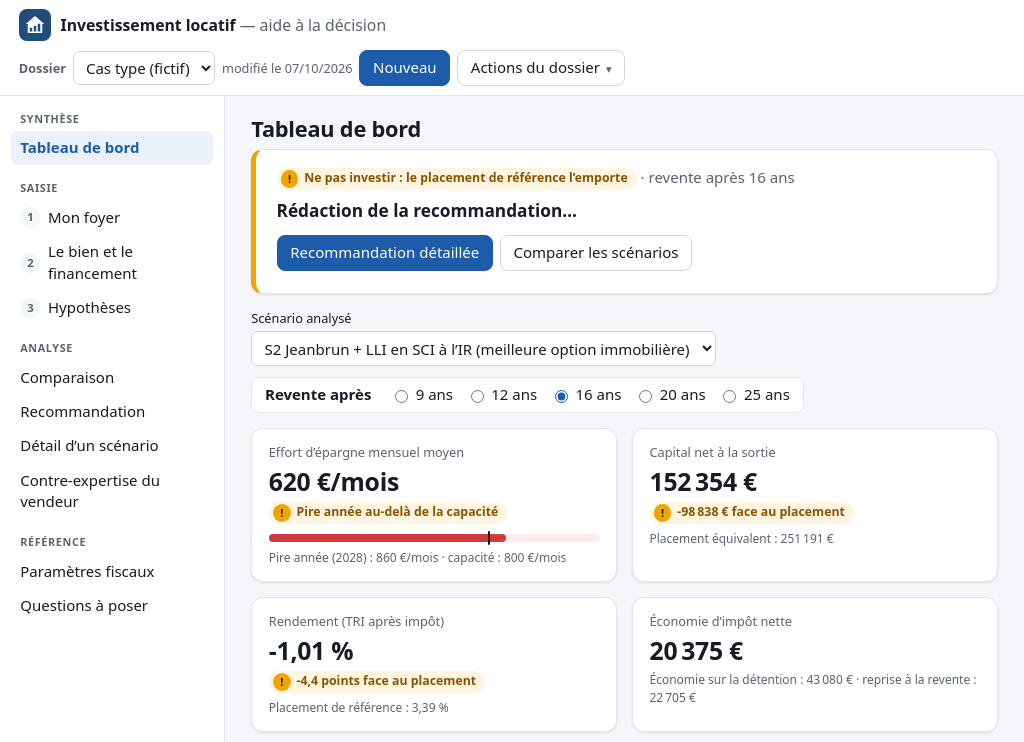
application › dossier vierge : la tranche marginale suit la saisie, les résultats attendent un dossier complet
Click the button "Nouveau" at point(405, 68), box [359,50,450,86]
(page scrolled)
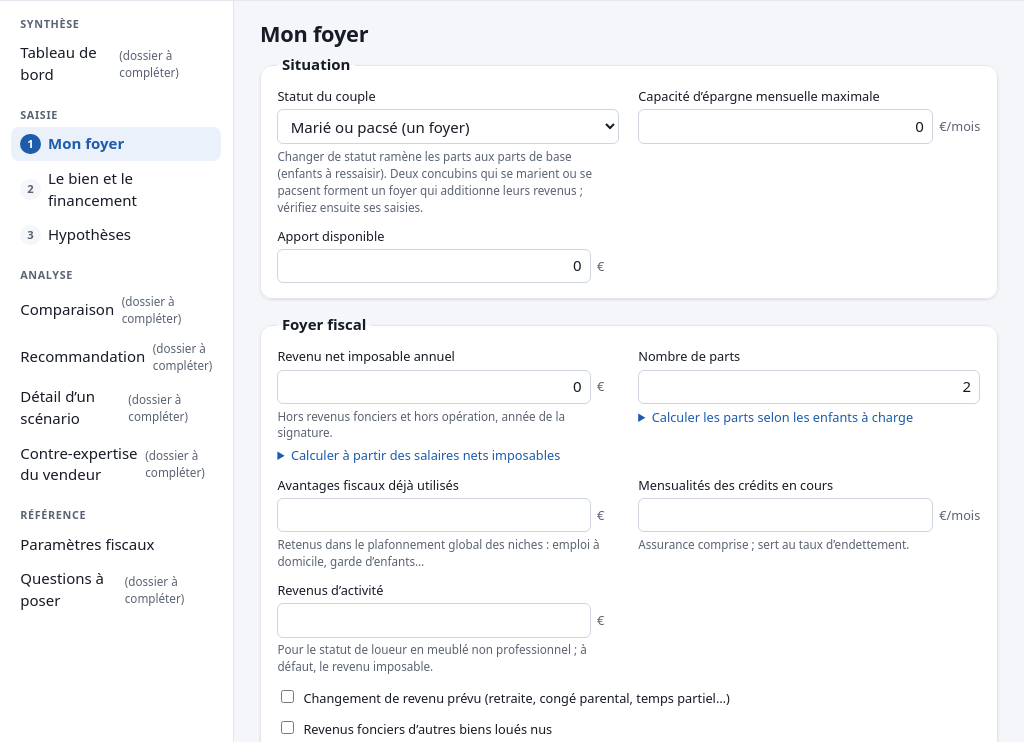
Replace the text in the field labelled "Revenu net imposable annuel" with "85000" at point(434, 387), box [277,370,591,404]
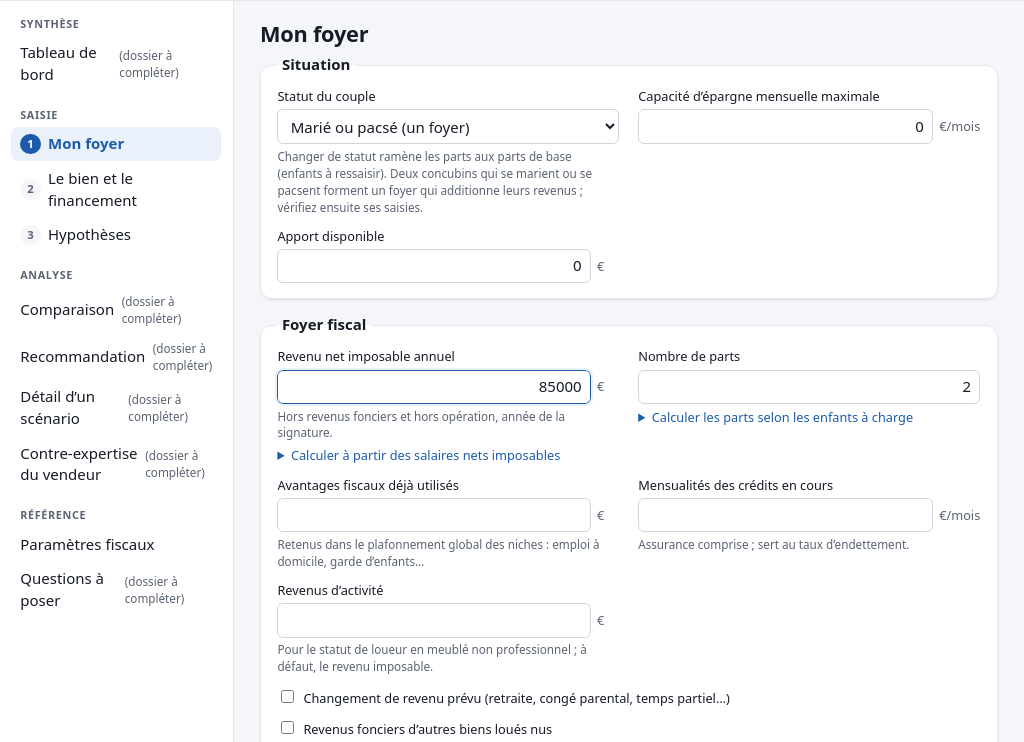
Click the link "Comparaison (dossier à compléter)" at point(101, 310), box [20,293,181,326]
(page scrolled)
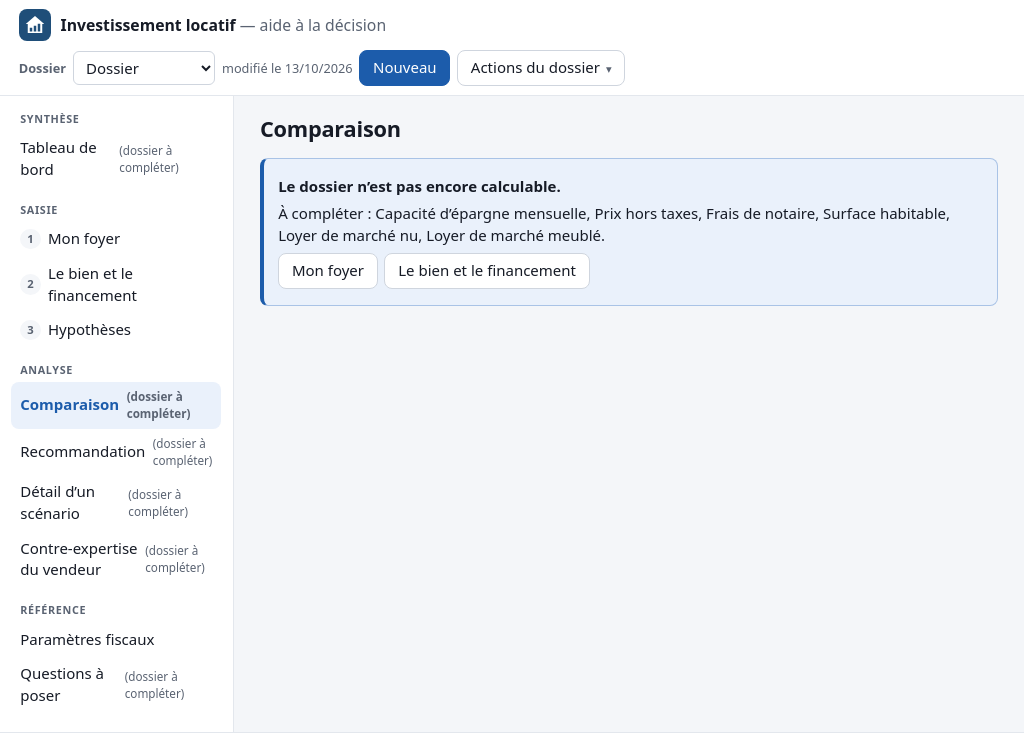
expect the text "Le dossier n’est pas encore calculable." is shown: met, box [278,176,561,196]
